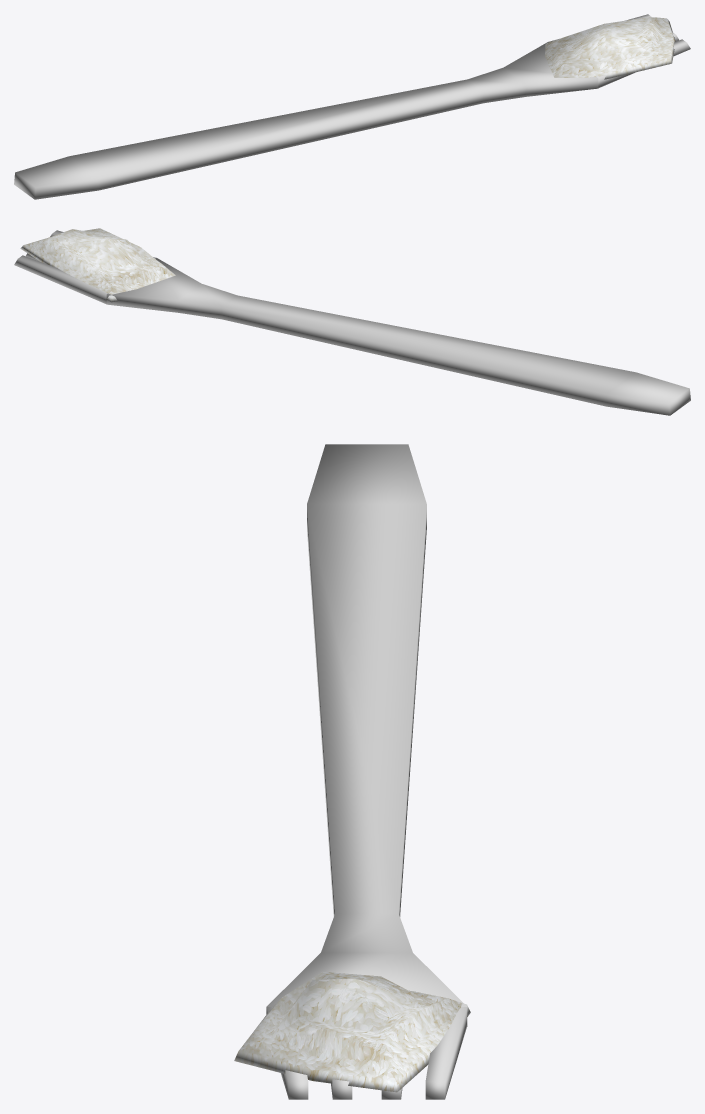
Rendered from SM_Prop_ForkFood.fbx.
3 views of the same model, one above another, from view 1: azimuth 30°, elevation 25°; view 2: azimuth 150°, elevation 25°; view 3: azimuth 270°, elevation 25° (orthographic). The views are drawn at different scales.
Parts seen in each view (by area): view 1: fork, ForkFoodRice; view 2: fork, ForkFoodRice; view 3: fork, ForkFoodRice.
Part boxes in pixels (x1=…): fork: x1=14, y1=14, x2=690, y2=199; ForkFoodRice: x1=545, y1=17, x2=675, y2=79; fork: x1=14, y1=230, x2=690, y2=415; ForkFoodRice: x1=20, y1=228, x2=175, y2=302; fork: x1=266, y1=444, x2=467, y2=1099; ForkFoodRice: x1=234, y1=971, x2=470, y2=1092.
Size of the model in its own units: 16.66 by 2.62 by 1.
